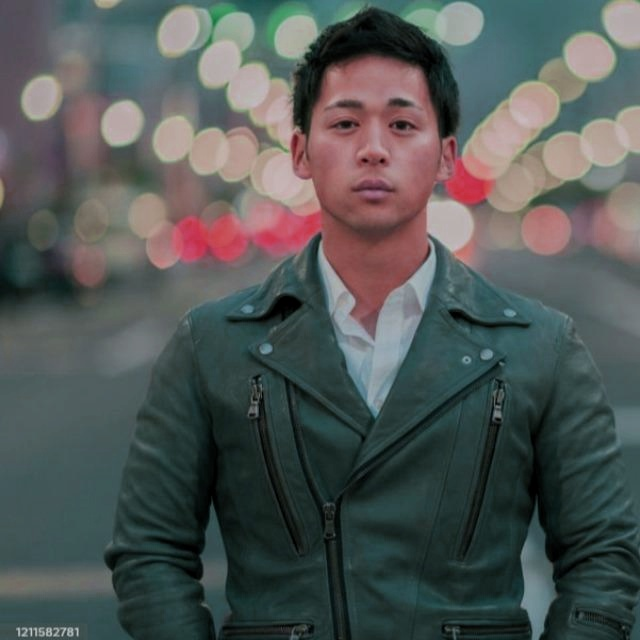Sin_Casco_Mascarrilla: (287, 3, 464, 232)
Sin_Chaleco: (172, 268, 582, 640)
